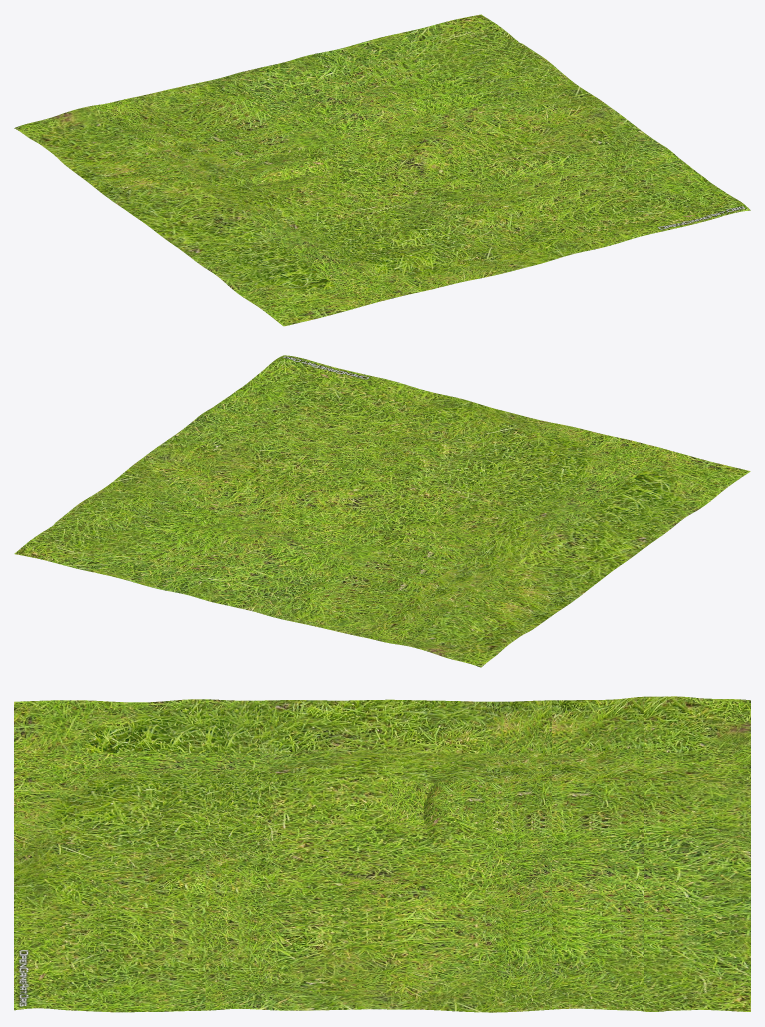
File: terrain.FBX
3 renders of one model, top to bottom at view 1: azimuth 30°, elevation 25°; view 2: azimuth 150°, elevation 25°; view 3: azimuth 270°, elevation 25°, orthographic. The views are drawn at different scales.
Visible parts, largest first — view 1: Object050, Object128, Object018, Object066, Object112, Object002, Object140, Object062, Object058, Object132, Object078, Object030 (+53 smaller); view 2: Object050, Object128, Object018, Object066, Object002, Object112, Object062, Object140, Object132, Object022, Object030, Object078 (+53 smaller); view 3: Object128, Object050, Object066, Object018, Object054, Object062, Object002, Object112, Object140, Object078, Object030, Object136 (+53 smaller).
Boxes of the visible parts, bbox=[...] form: Object050: bbox=[148, 204, 265, 254]; Object128: bbox=[14, 105, 131, 153]; Object018: bbox=[214, 255, 328, 301]; Object066: bbox=[111, 180, 226, 225]; Object112: bbox=[53, 134, 165, 181]; Object002: bbox=[250, 281, 362, 326]; Object140: bbox=[358, 28, 461, 72]; Object062: bbox=[491, 126, 594, 168]; Object058: bbox=[381, 150, 477, 197]; Object132: bbox=[138, 83, 236, 126]; Object078: bbox=[455, 99, 555, 141]; Object030: bbox=[557, 175, 658, 216]; Object050: bbox=[535, 522, 653, 569]; Object128: bbox=[402, 616, 519, 667]; Object018: bbox=[602, 475, 716, 520]; Object066: bbox=[499, 548, 614, 597]; Object002: bbox=[638, 451, 750, 495]; Object112: bbox=[441, 595, 553, 636]; Object062: bbox=[206, 442, 309, 485]; Object140: bbox=[73, 539, 176, 583]; Object132: bbox=[297, 592, 395, 635]; Object022: bbox=[497, 448, 592, 491]; Object030: bbox=[272, 395, 373, 437]; Object078: bbox=[170, 470, 270, 512]; Object128: bbox=[644, 696, 750, 753]; Object050: bbox=[279, 699, 386, 752]; Object066: bbox=[386, 699, 485, 753]; Object018: bbox=[106, 699, 205, 753]; Object054: bbox=[279, 776, 386, 823]; Object062: bbox=[279, 926, 386, 972]; Object002: bbox=[14, 700, 105, 753]; Object112: bbox=[552, 696, 643, 753]; Object140: bbox=[644, 928, 750, 972]; Object078: bbox=[386, 928, 485, 972]; Object030: bbox=[106, 929, 205, 973]; Object136: bbox=[644, 852, 750, 894].
Size of the model in its own units: 2500 by 41.26 by 2500.
Materials: 1 (1 with a texture image).
